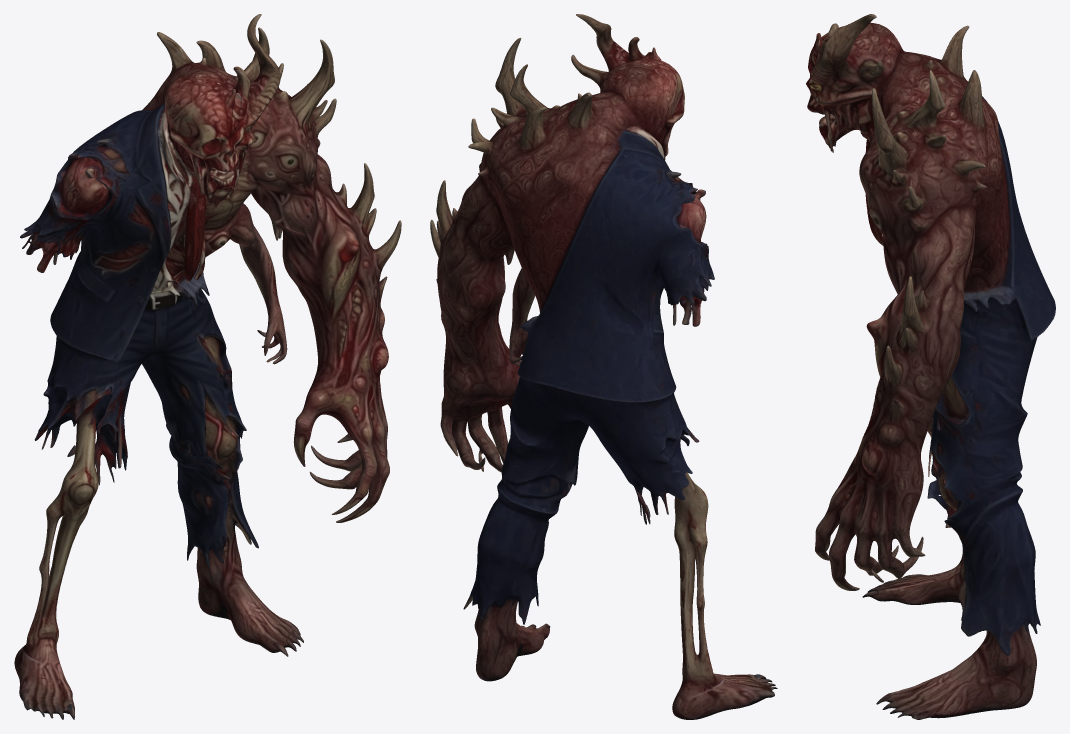
The model's file is Integrante_Grizzolito_Marolis_Monster_2.glb.
3 views of the same model, side by side, from view 1: azimuth 30°, elevation 25°; view 2: azimuth 150°, elevation 25°; view 3: azimuth 270°, elevation 25° (orthographic). The views are drawn at different scales.
Bounding box in the file's own units: 1.12 × 1.9 × 0.6336.
1 material, 1 textured.
